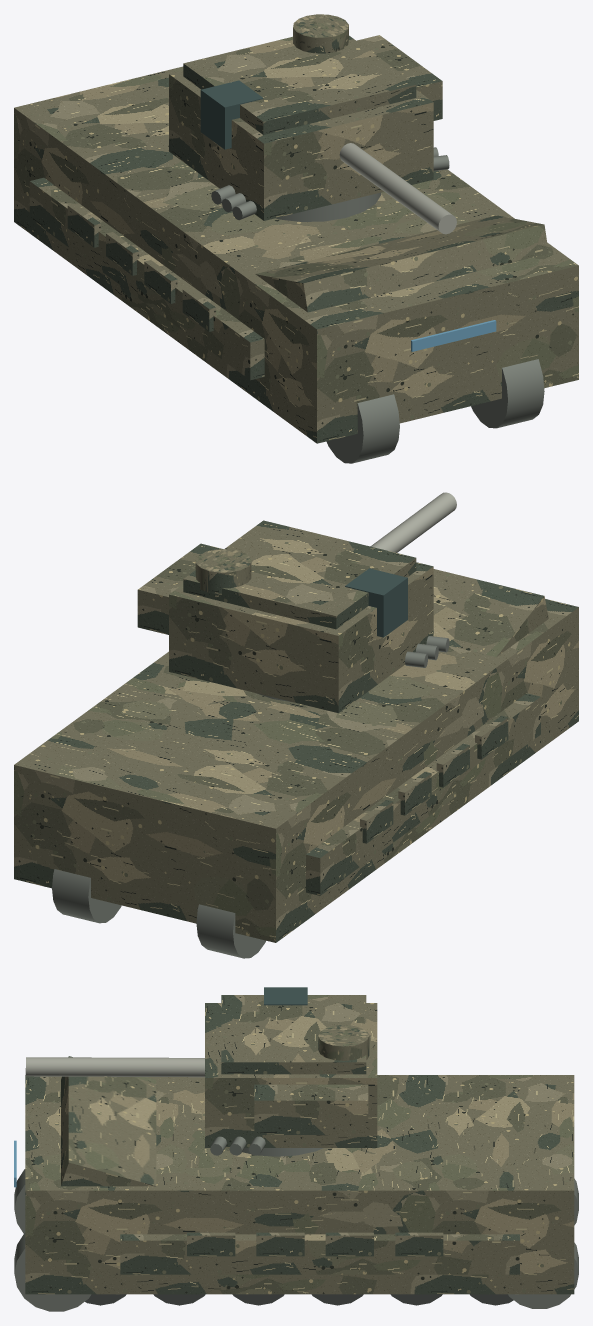
The model's file is m2-bradley.glb.
3 renders of one model, top to bottom at view 1: azimuth 30°, elevation 25°; view 2: azimuth 150°, elevation 25°; view 3: azimuth 270°, elevation 25°, orthographic. The views are drawn at different scales.
Visible parts, largest first — view 1: Armored hull, Bradley turret, Sloped front armor, Turret roof panel, Side skirt, Drive sprocket (×2), Side reactive armor tile (×4), 25 mm Bushmaster autocannon, TOW sight unit, TOW launcher housing, Commander cupola, Turret race (+1 smaller); view 2: Armored hull, Bradley turret, Turret roof panel, Side skirt, Sloped front armor, Idler wheel (×2), Side reactive armor tile (×4), TOW launcher housing, TOW sight unit, Commander cupola, 25 mm Bushmaster autocannon; view 3: Armored hull, Side skirt, Sloped front armor, Turret roof panel, Bradley turret, TOW launcher housing, Side reactive armor tile (×4), 25 mm Bushmaster autocannon, Drive sprocket (×2), Road wheel / replaceable (×4), Commander cupola, Idler wheel (+2 smaller).
Boxes of the visible parts, x1,y1,x2,y2 form: Armored hull: (14,66,578,443); Bradley turret: (169,71,433,220); Sloped front armor: (255,215,548,312); Turret roof panel: (183,35,416,134); Side skirt: (29,177,264,380); Drive sprocket (×2): (326,359,544,463); Side reactive armor tile (×4): (67,204,215,331); 25 mm Bushmaster autocannon: (339,143,456,234); TOW sight unit: (200,80,263,149); TOW launcher housing: (356,35,442,120); Commander cupola: (293,14,348,53); Turret race: (276,192,381,221); Armored hull: (14,599,578,942); Bradley turret: (169,562,433,713); Turret roof panel: (183,520,416,629); Side skirt: (306,693,540,895); Sloped front armor: (433,569,548,657); Idler wheel (×2): (52,869,265,958); Side reactive armor tile (×4): (360,715,508,843); TOW launcher housing: (137,543,223,634); TOW sight unit: (345,568,407,637); Commander cupola: (195,549,251,594); 25 mm Bushmaster autocannon: (370,492,456,552); Armored hull: (25,1075,574,1294); Side skirt: (120,1234,519,1274); Sloped front armor: (61,1056,156,1186); Turret roof panel: (221,995,366,1074); Bradley turret: (205,1003,377,1147); TOW launcher housing: (254,1084,368,1134); Side reactive armor tile (×4): (187,1232,443,1256); 25 mm Bushmaster autocannon: (25,1057,204,1077); Drive sprocket (×2): (14,1169,91,1311); Road wheel / replaceable (×4): (153,1294,442,1305); Commander cupola: (318,1025,369,1060); Idler wheel: (508,1242,578,1308).
Bounding box in the file's own units: 3.56 × 3.23 × 6.43.
6 materials, 1 textured.
